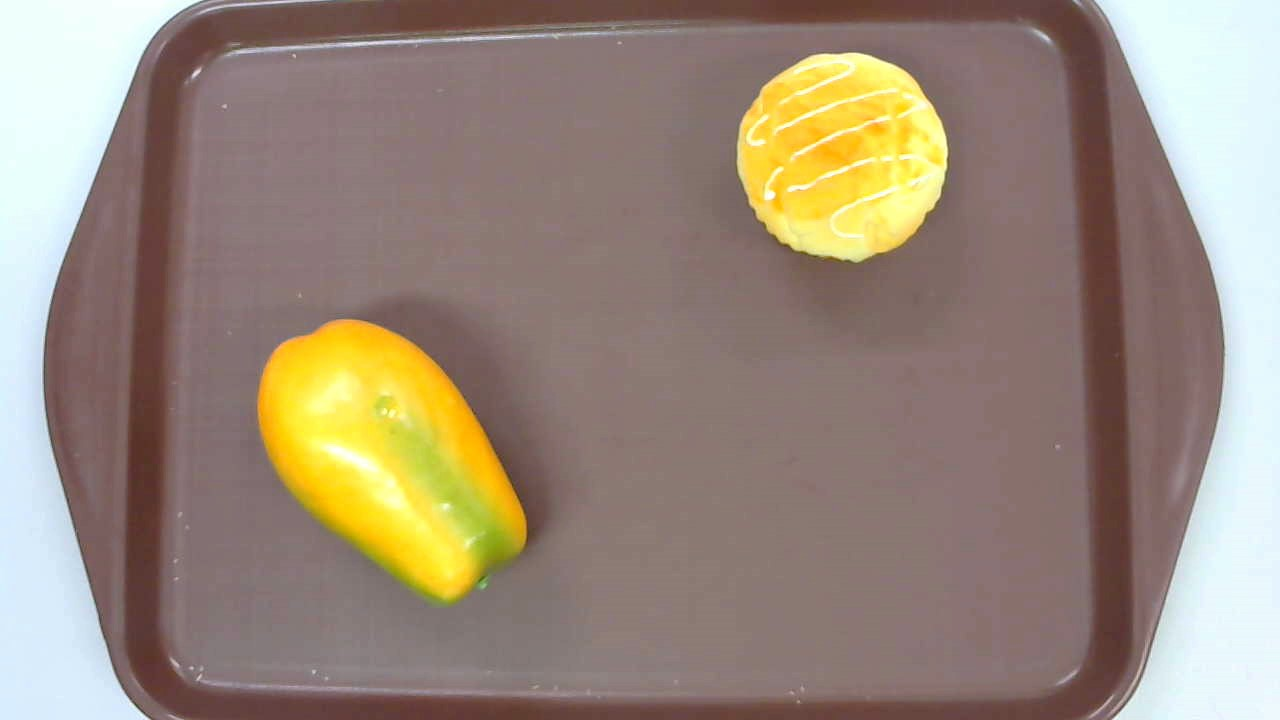cupcake: (735, 51, 949, 262)
papya: (257, 317, 527, 608)
